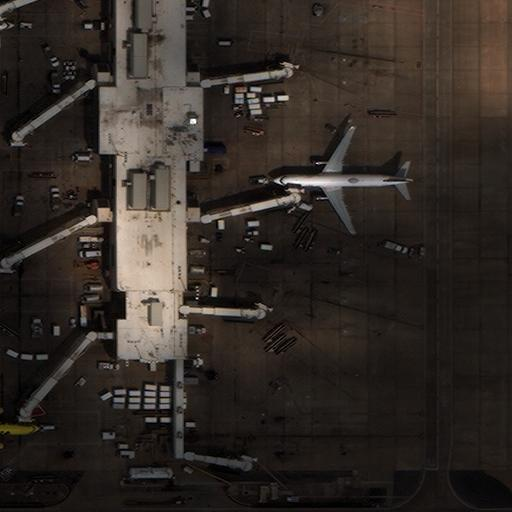Medium Civil Transport: (269, 127, 416, 234), (0, 397, 42, 460)
